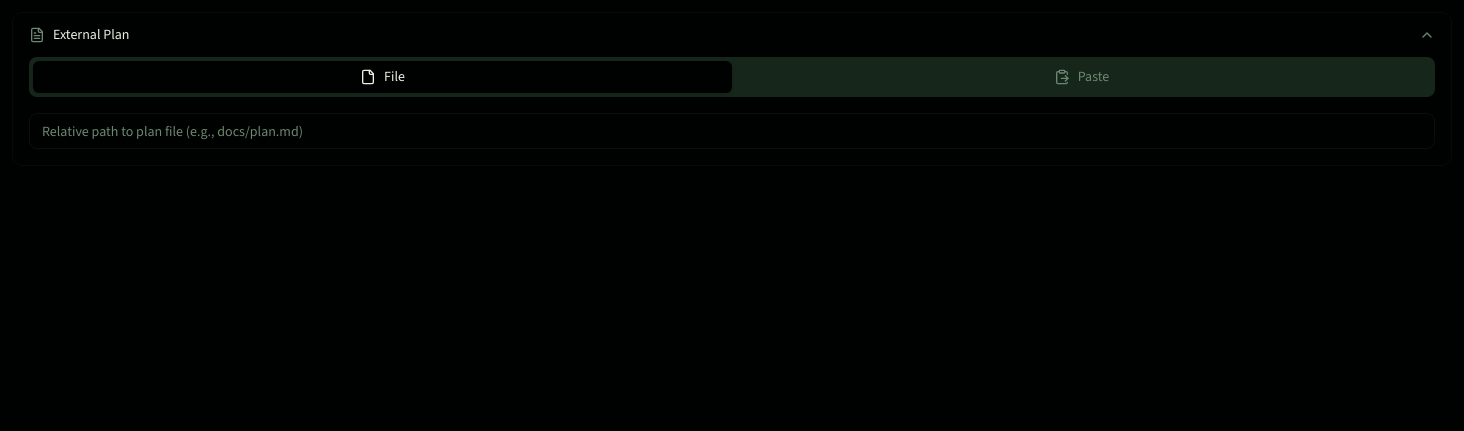
Test: PlanImportSection › paste content input › shows plan preview when valid content is entered
// Switch to paste mode
Click the radio button labelled "Paste". click: (1082,77)
box: [732,61,1431,93]
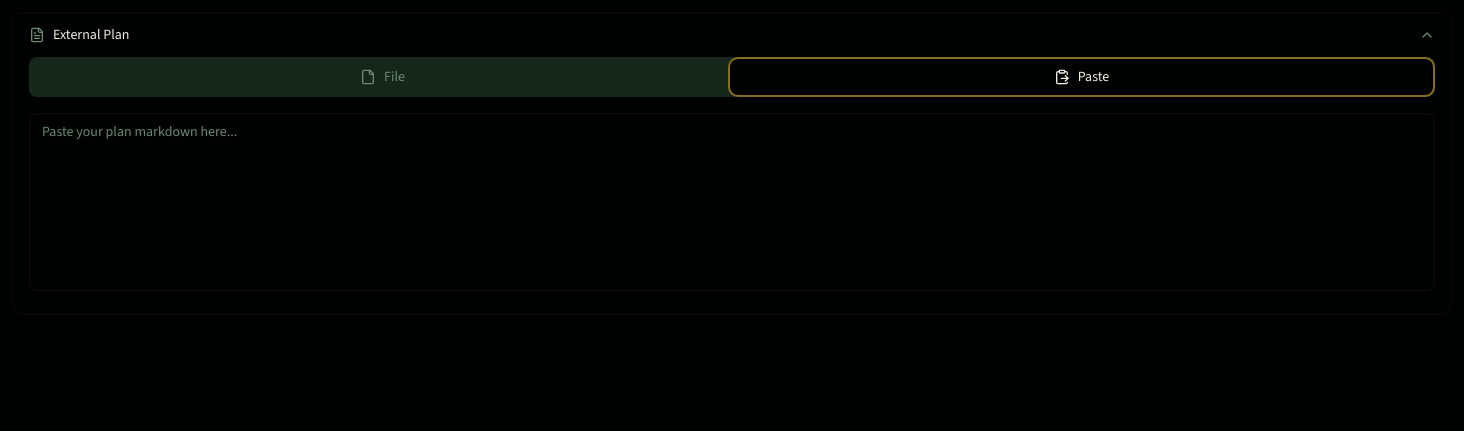
Type "# Plan ## Goal Implement user authentication. ## Tasks ### Task 1: Create login form ### Task 2: Add validation " into the text box with placeholder "Paste your plan markdown here...". click: (732,202)
box: [29,113,1435,291]
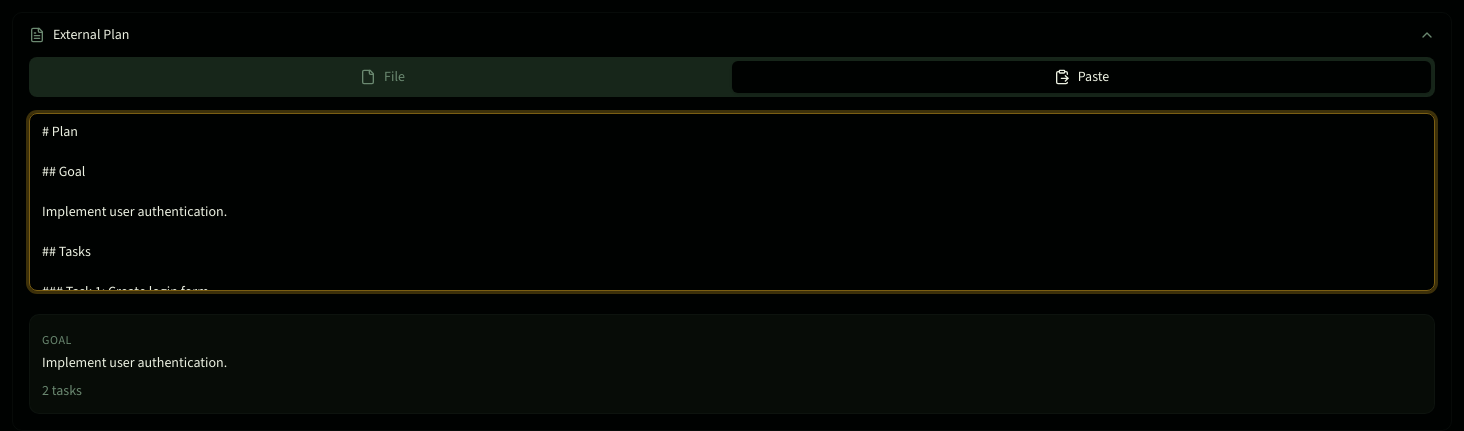
Check: the element with test id "plan-preview" shows "Implement user authentication", box [42,353,227,372]
Check: the element with test id "plan-preview" shows "2 tasks", box [29,314,1435,414]
